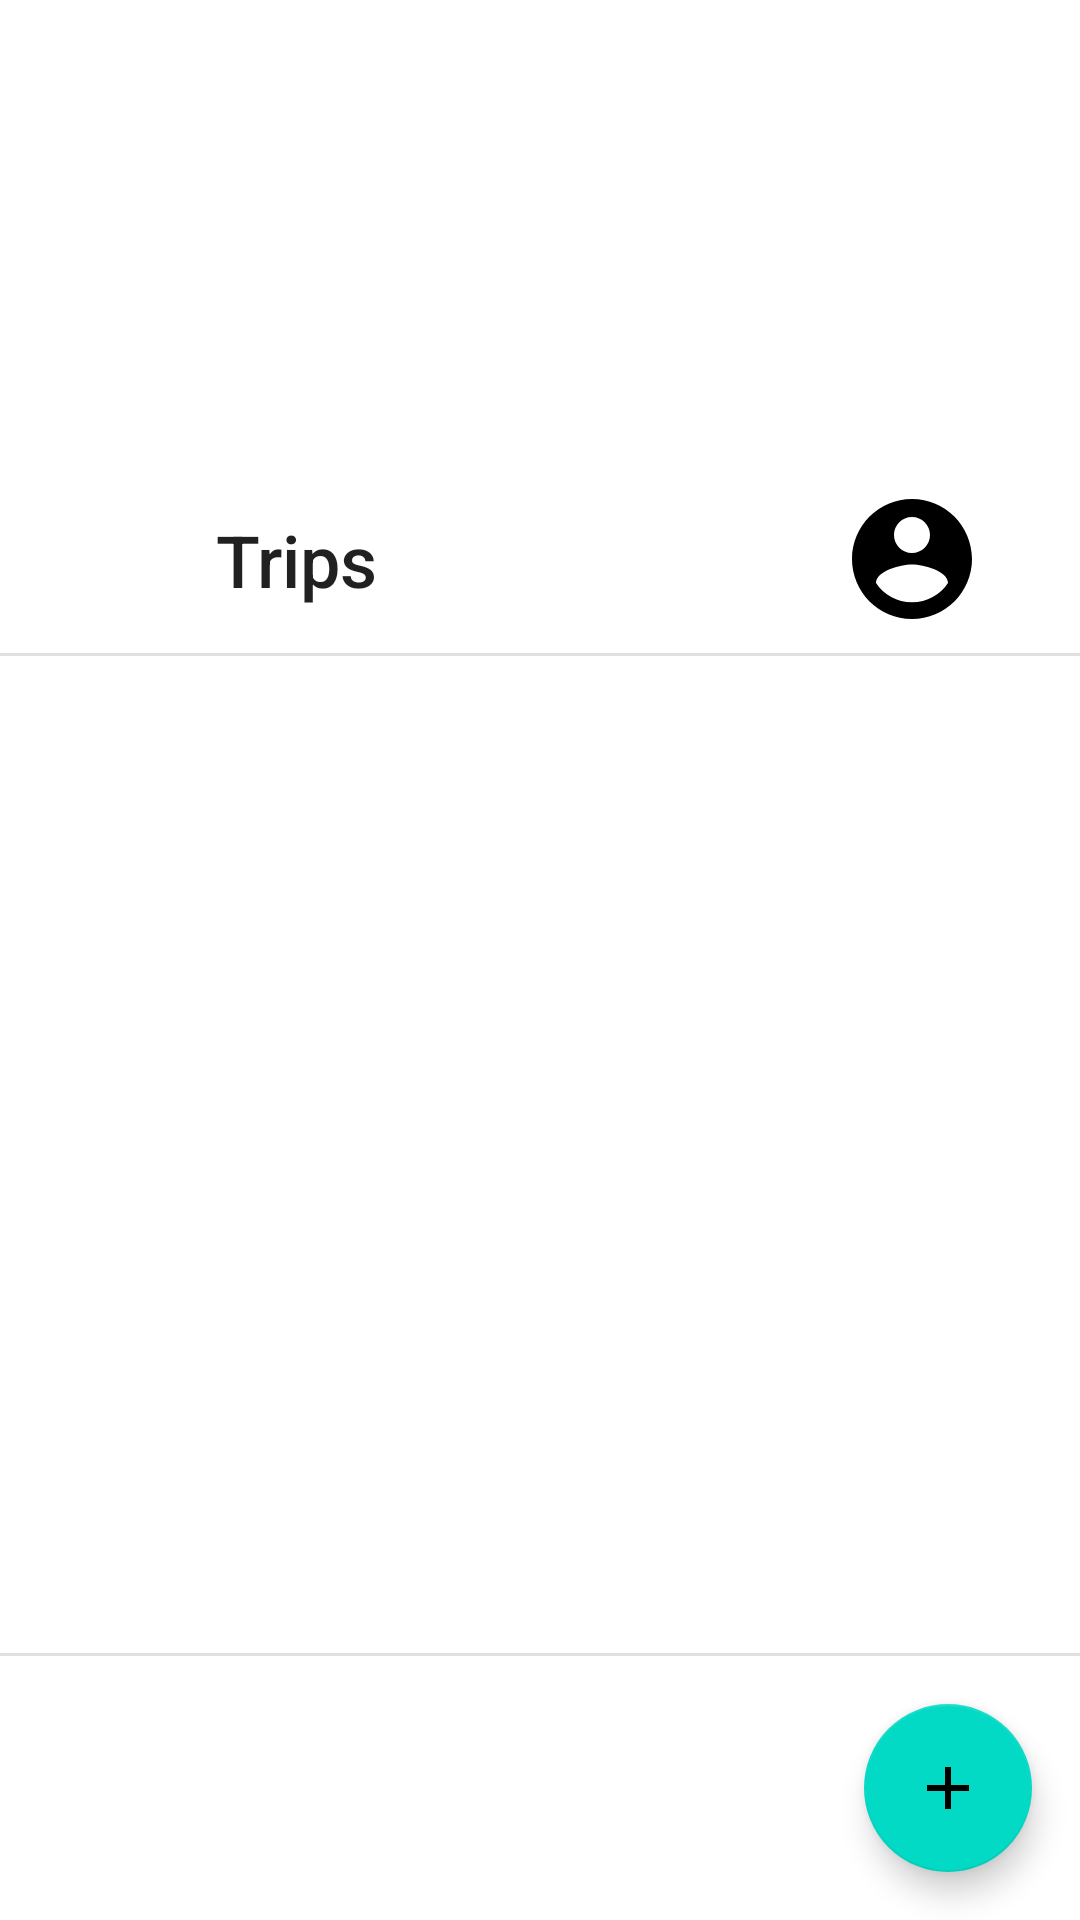

Named icons in this screenshot (1080w x 1920h) and their centers, (x=x, y=y):
Add Trip: (x=948, y=1788)
Profile Image: (x=912, y=559)
